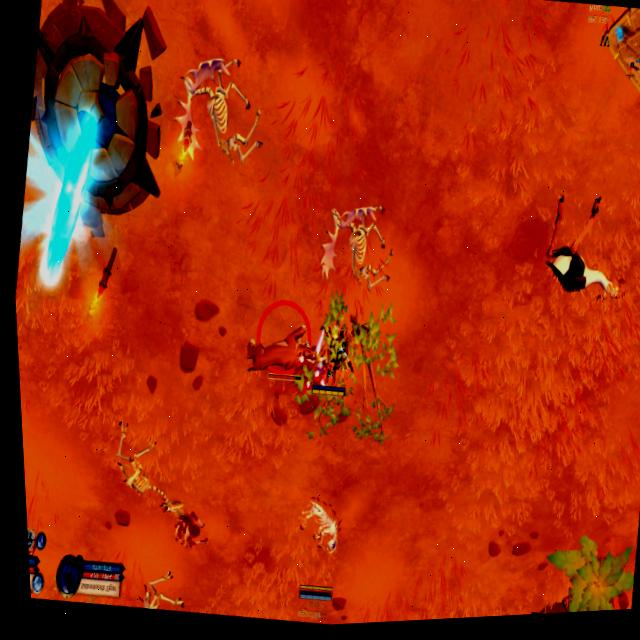ore: (244, 293, 329, 393)
red: (309, 322, 356, 401), (297, 582, 335, 605)
